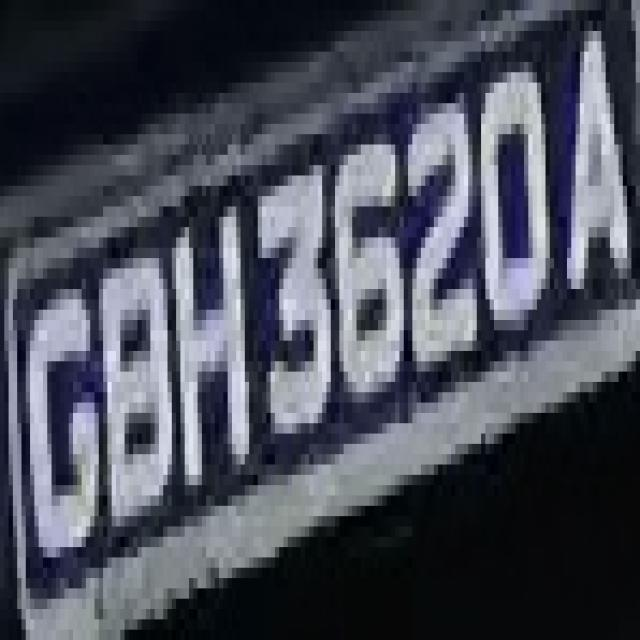0: (468, 52, 558, 351)
2: (396, 93, 486, 402)
3: (249, 144, 327, 464)
6: (322, 103, 404, 454)
A: (554, 0, 627, 330)
B: (90, 238, 172, 547)
G: (13, 258, 99, 568)
H: (164, 186, 254, 506)
